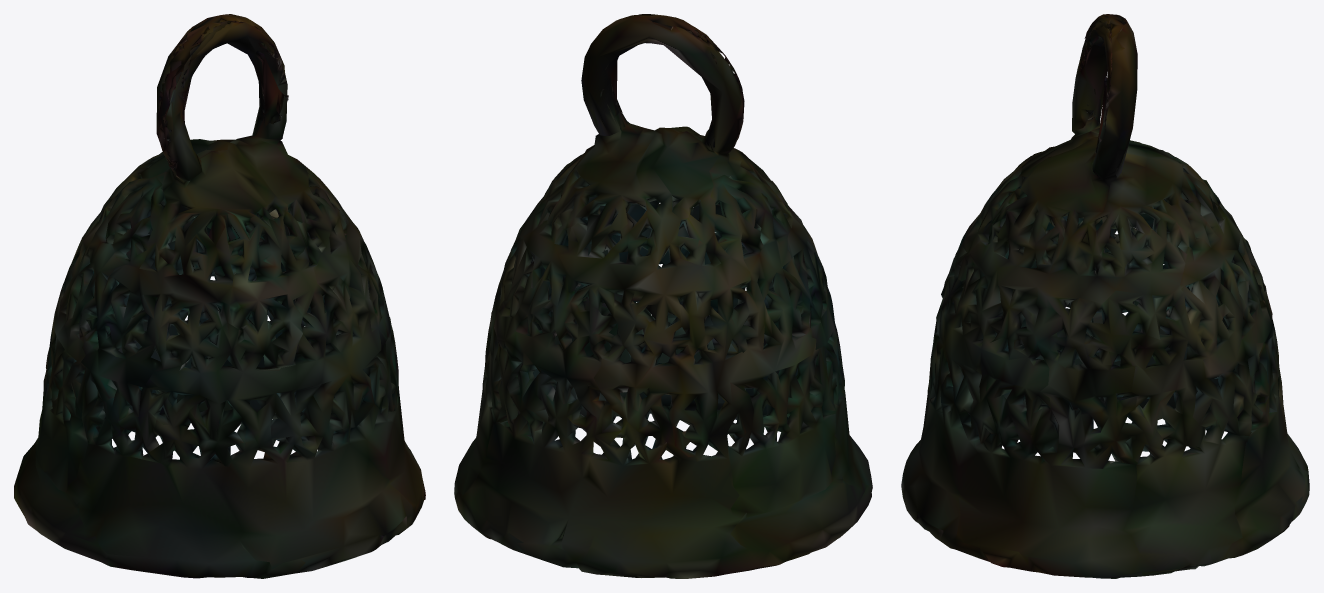
Rendered from handbell.293eca9f.glb.
The picture shows the model from 3 angles, left to right: view 1: azimuth 30°, elevation 25°; view 2: azimuth 150°, elevation 25°; view 3: azimuth 270°, elevation 25°; orthographic projection. The views are drawn at different scales.
Visible parts, largest first — view 1: body; view 2: body; view 3: body.
Part boxes in pixels (x1,y1,x2,y2): body: (14, 14, 425, 578); body: (454, 14, 872, 578); body: (901, 14, 1309, 578).
Size of what is drawn, in the model's own units: 0.3529 by 0.4495 by 0.3522.
